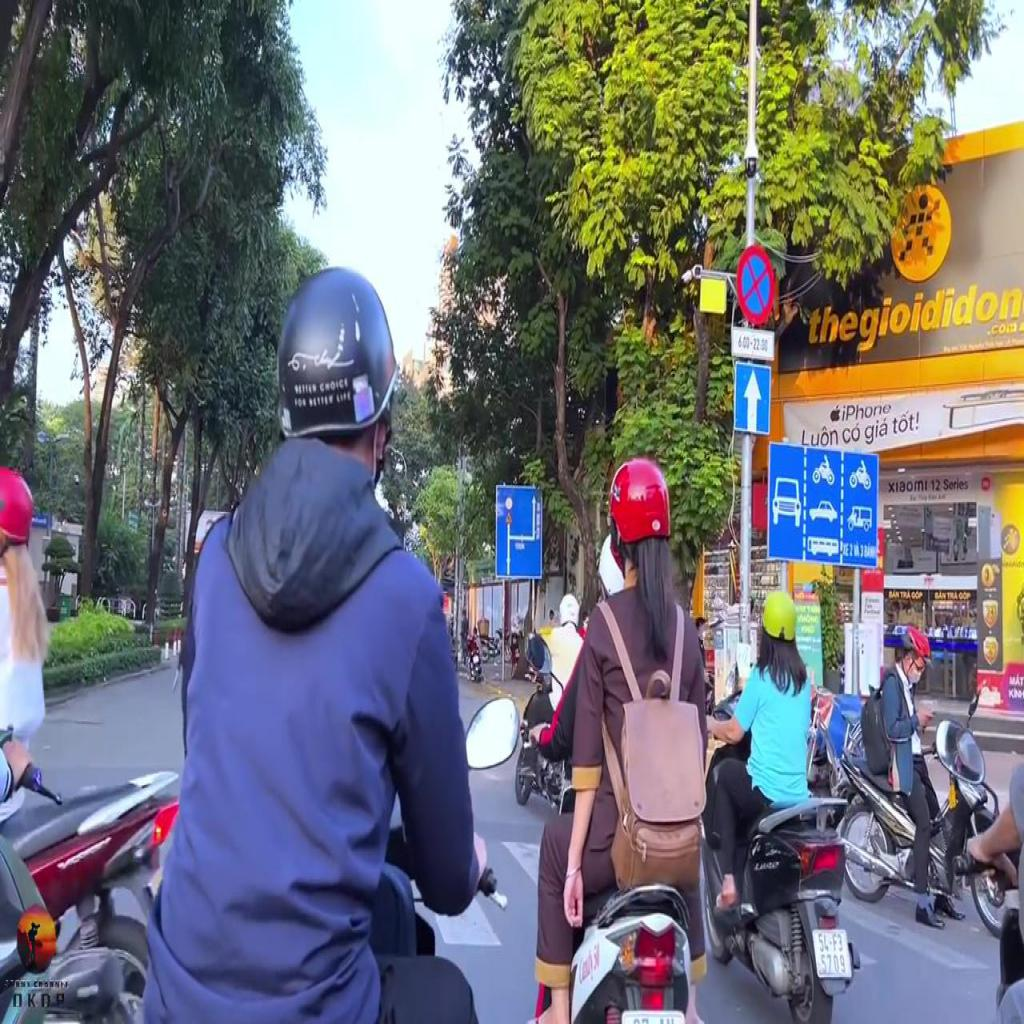cam_dung_xe_va_do_xe: (736, 243, 774, 324)
duong_mot_chieu: (734, 360, 770, 434)
khac: (496, 485, 542, 580), (732, 329, 774, 361)
lan_duong_cho_tung_xe_theo_vach_ke_duong: (769, 441, 877, 566)
